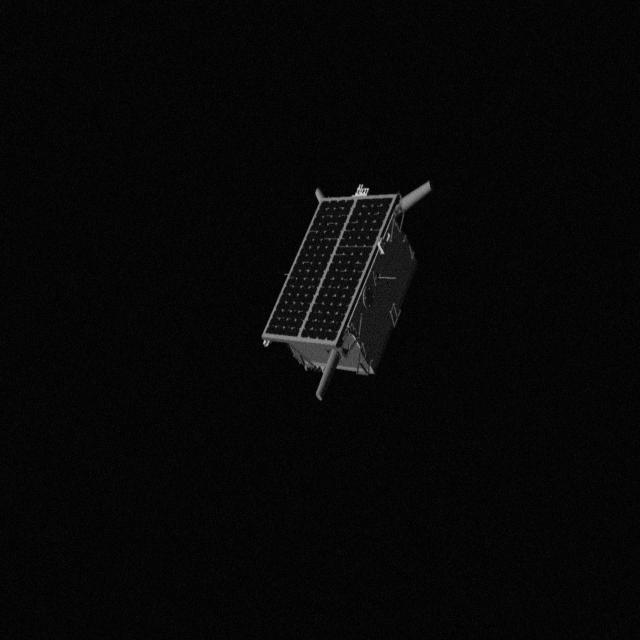satellite: (252, 174, 446, 396)
